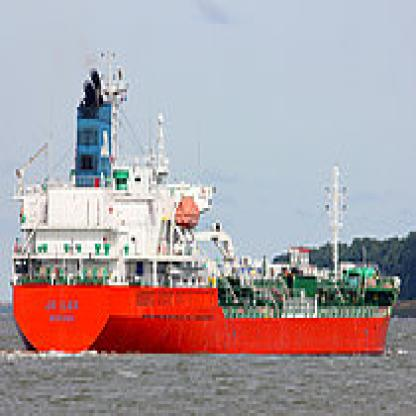Tanker: (10, 44, 404, 362)
